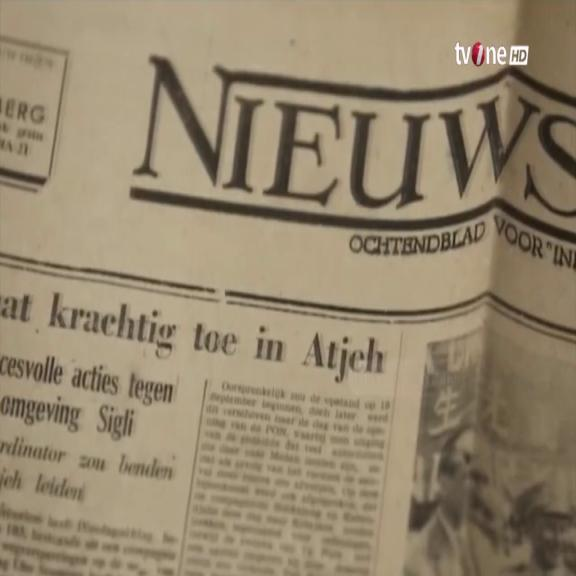Kertas: (0, 0, 569, 571), (0, 263, 210, 572)
